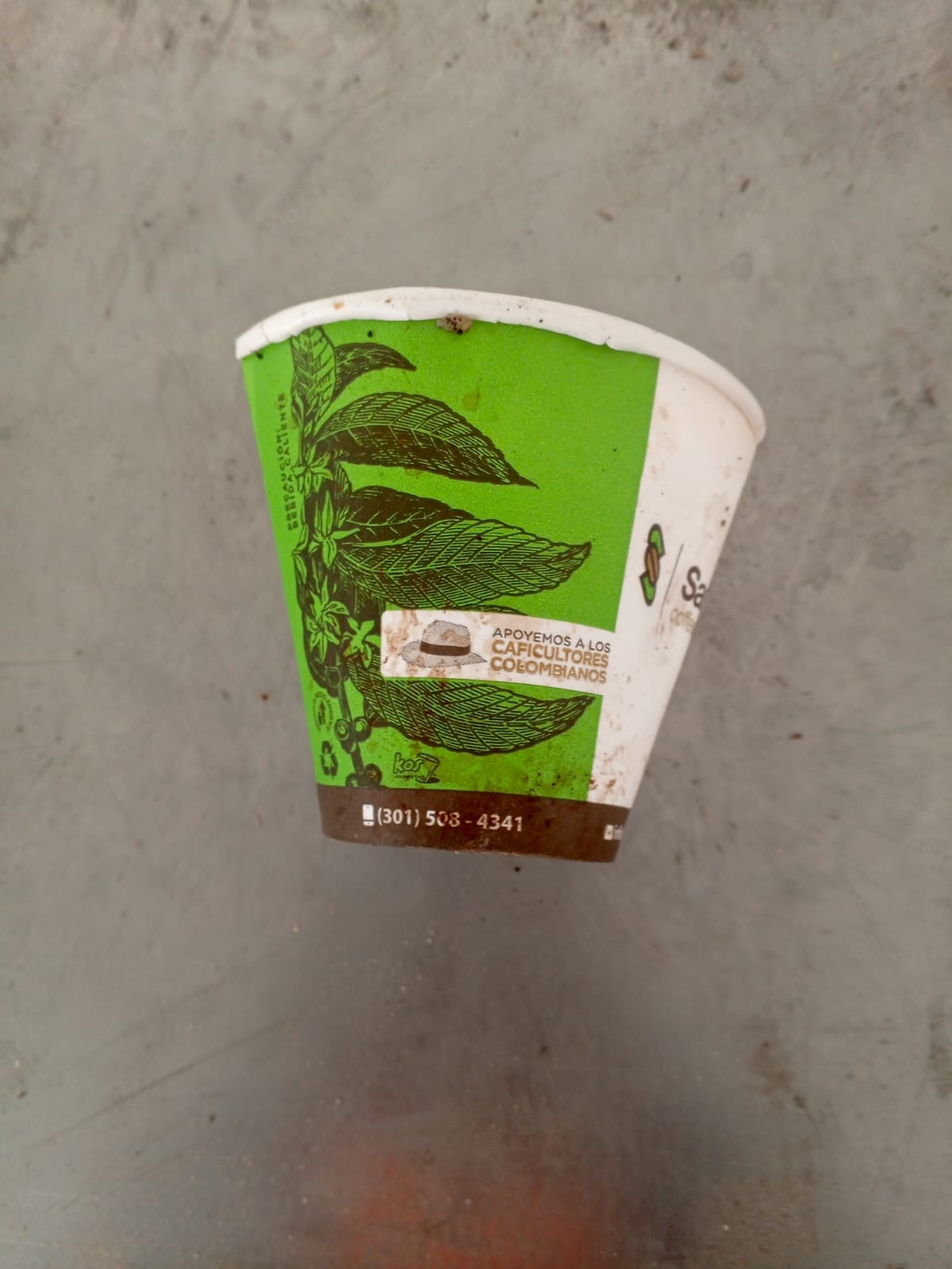Carton: (232, 285, 765, 865)
